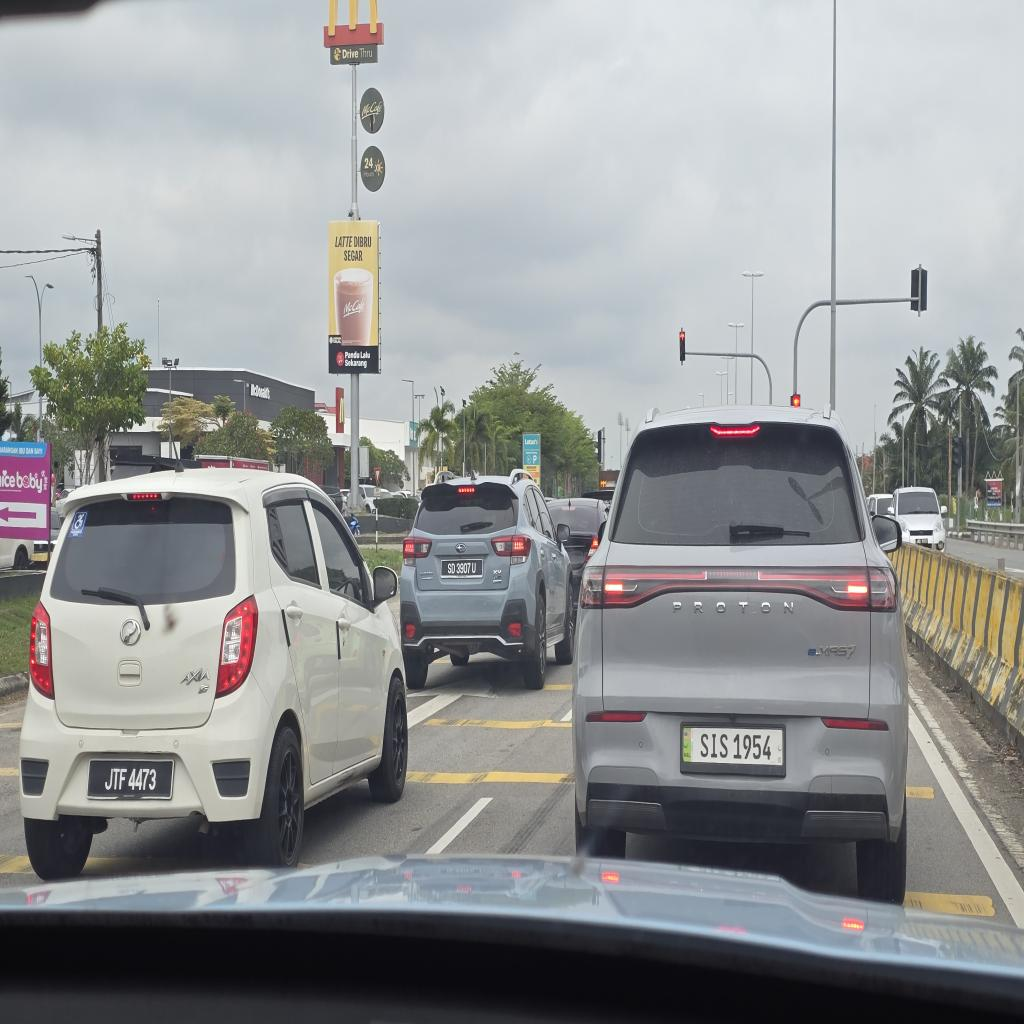car: (573, 407, 908, 902), (21, 470, 407, 878), (401, 472, 574, 688)
car plate: (682, 725, 784, 775), (88, 761, 173, 800), (442, 559, 482, 577)
